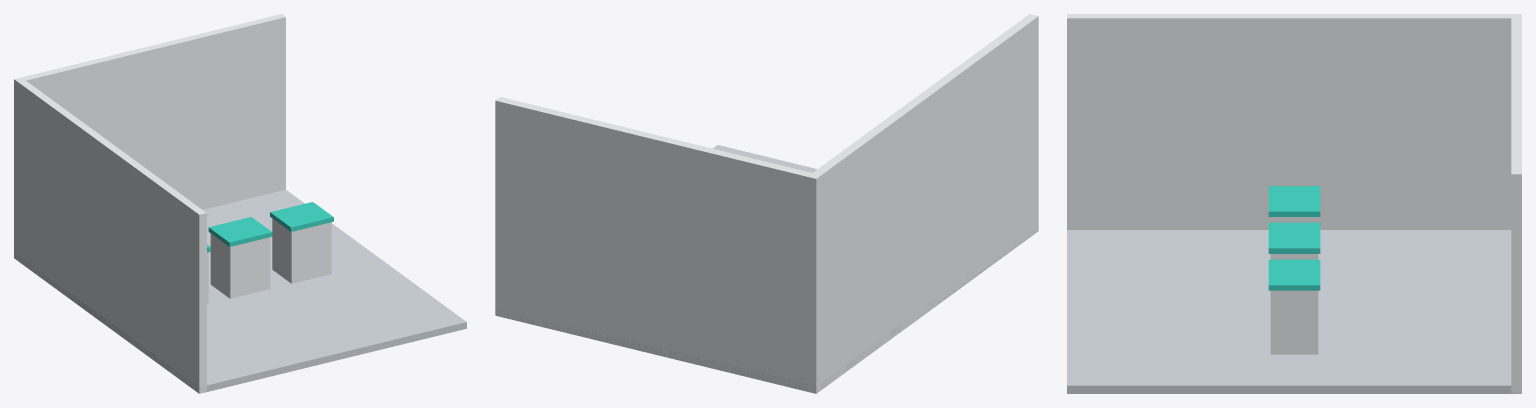
3 views of the same model, side by side, from view 1: azimuth 30°, elevation 25°; view 2: azimuth 150°, elevation 25°; view 3: azimuth 270°, elevation 25° (orthographic). The views are drawn at different scales.
Parts seen in each view (by area): view 1: Exhibition Booth Concept; view 2: Exhibition Booth Concept; view 3: Exhibition Booth Concept.
Boxes of the visible parts, <box> form: Exhibition Booth Concept: <box>14,14,466,393</box>; Exhibition Booth Concept: <box>495,14,1038,393</box>; Exhibition Booth Concept: <box>1067,14,1521,393</box>.
Bounding box in the file's own units: 5 × 3.2 × 6.
